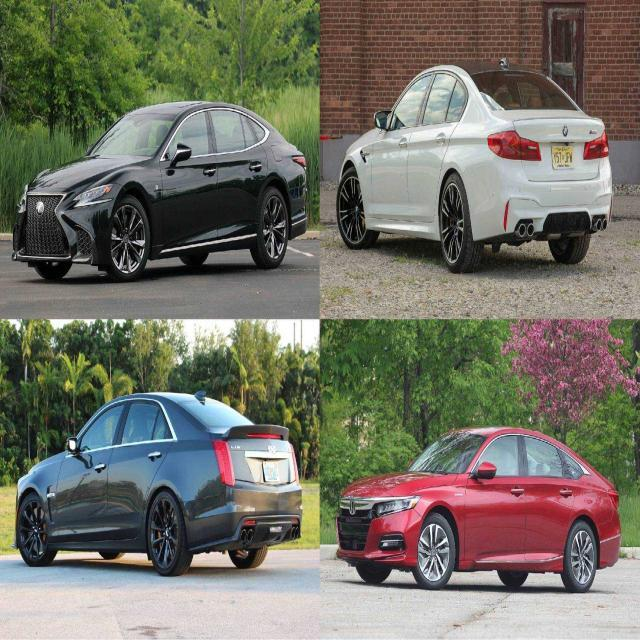pickup: (336, 57, 614, 274), (11, 98, 308, 282), (14, 388, 303, 576), (334, 424, 622, 592)
